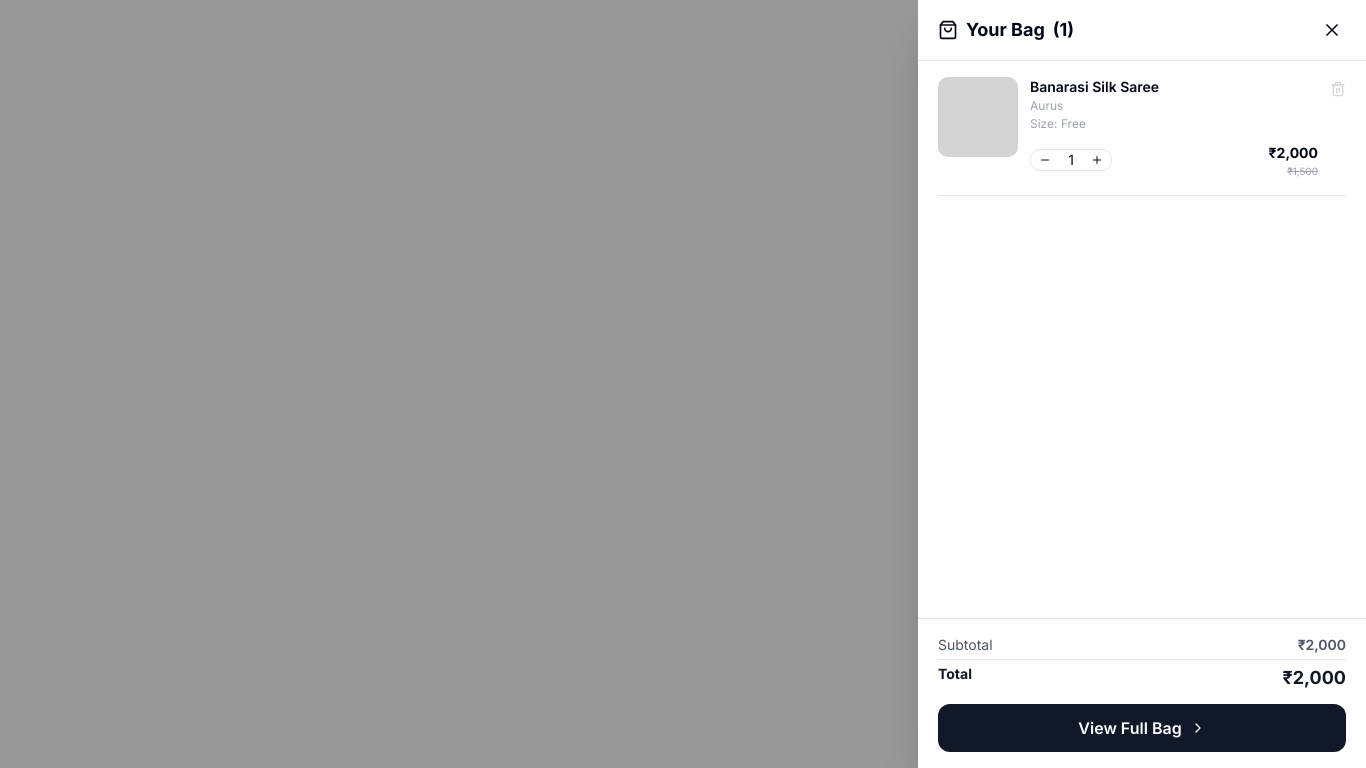
Test: CartDrawer › − at quantity 1 removes the item instead of setting quantity 0
This screenshot has width=1366, height=768.
Check: the text named "Quantity: 1" is shown, box [1068,151,1074,168]
Click the button named "Decrease quantity".
click(1045, 160)  # box [1031,150,1059,170]
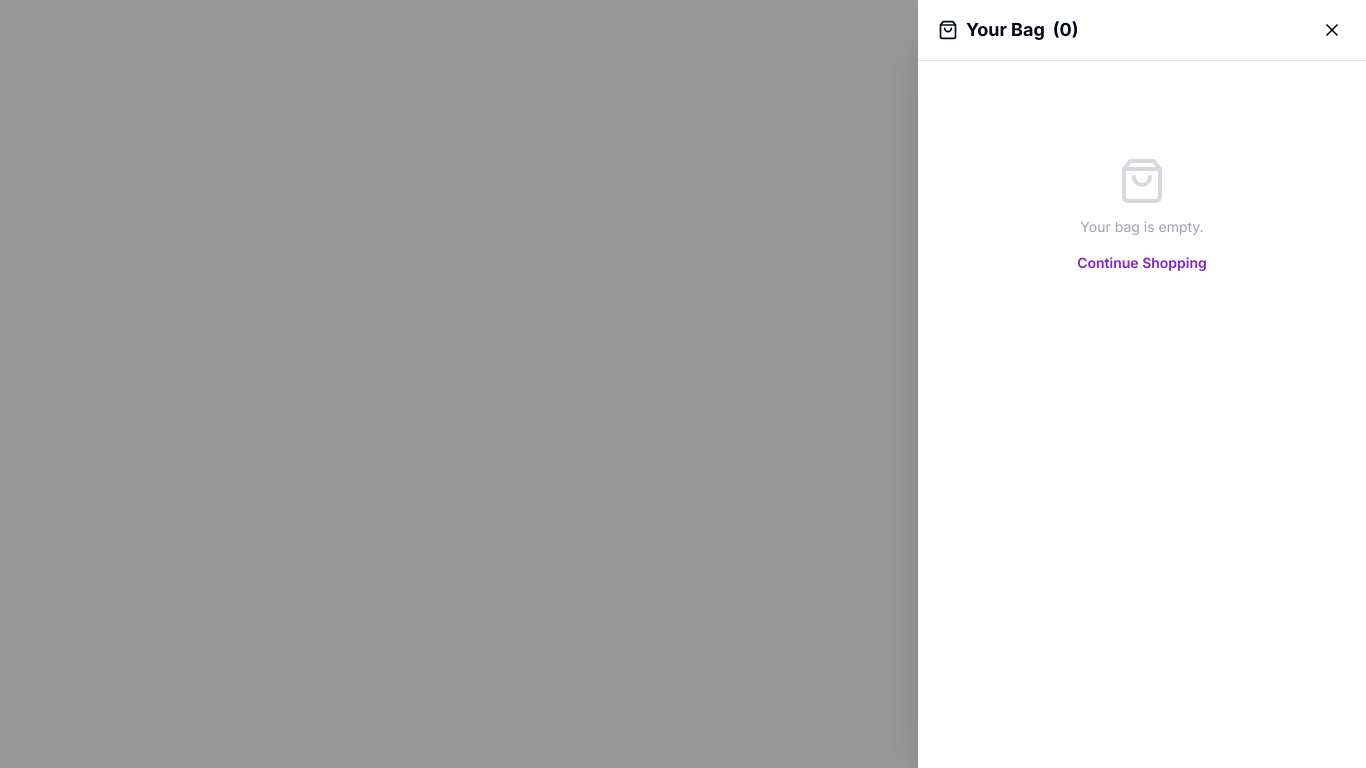
Check: the text "Your bag is empty." is shown, box [1080,218,1204,235]
